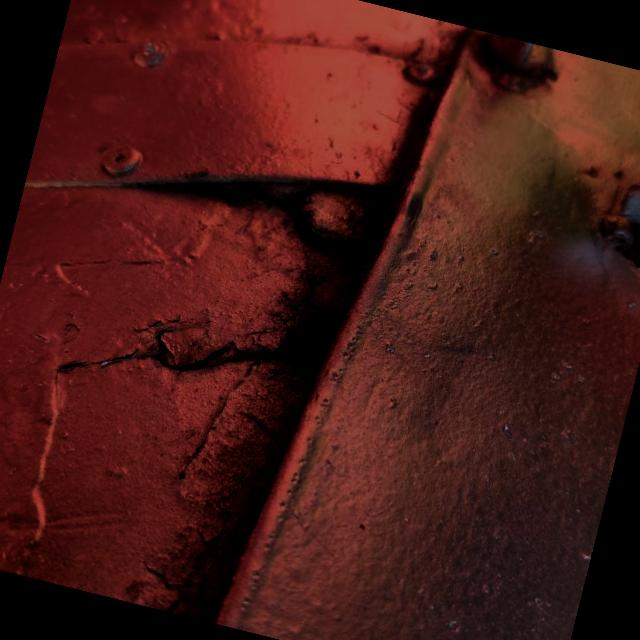crack: (206, 119, 414, 388)
